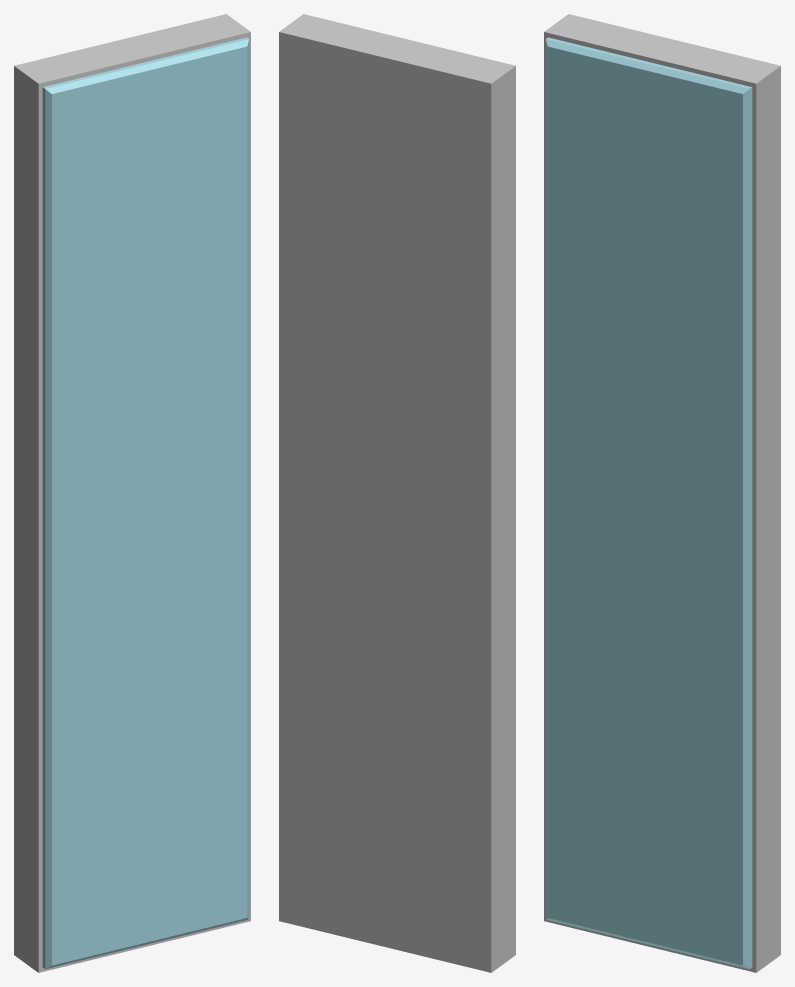
Rendered from lampFix.fbx.
3 views of the same model, side by side, from view 1: azimuth 30°, elevation 25°; view 2: azimuth 150°, elevation 25°; view 3: azimuth 330°, elevation 25° (orthographic).
Parts seen in each view (by area): view 1: Body2, Body1; view 2: Body1; view 3: Body2, Body1.
Boxes of the visible parts, x1,y1,x2,y2 form: Body2: (42,37,249,969); Body1: (14,14,250,972); Body1: (279,14,515,972); Body2: (545,37,752,969); Body1: (544,14,780,972).
Bounding box in the file's own units: 2500 × 10000 × 600.
